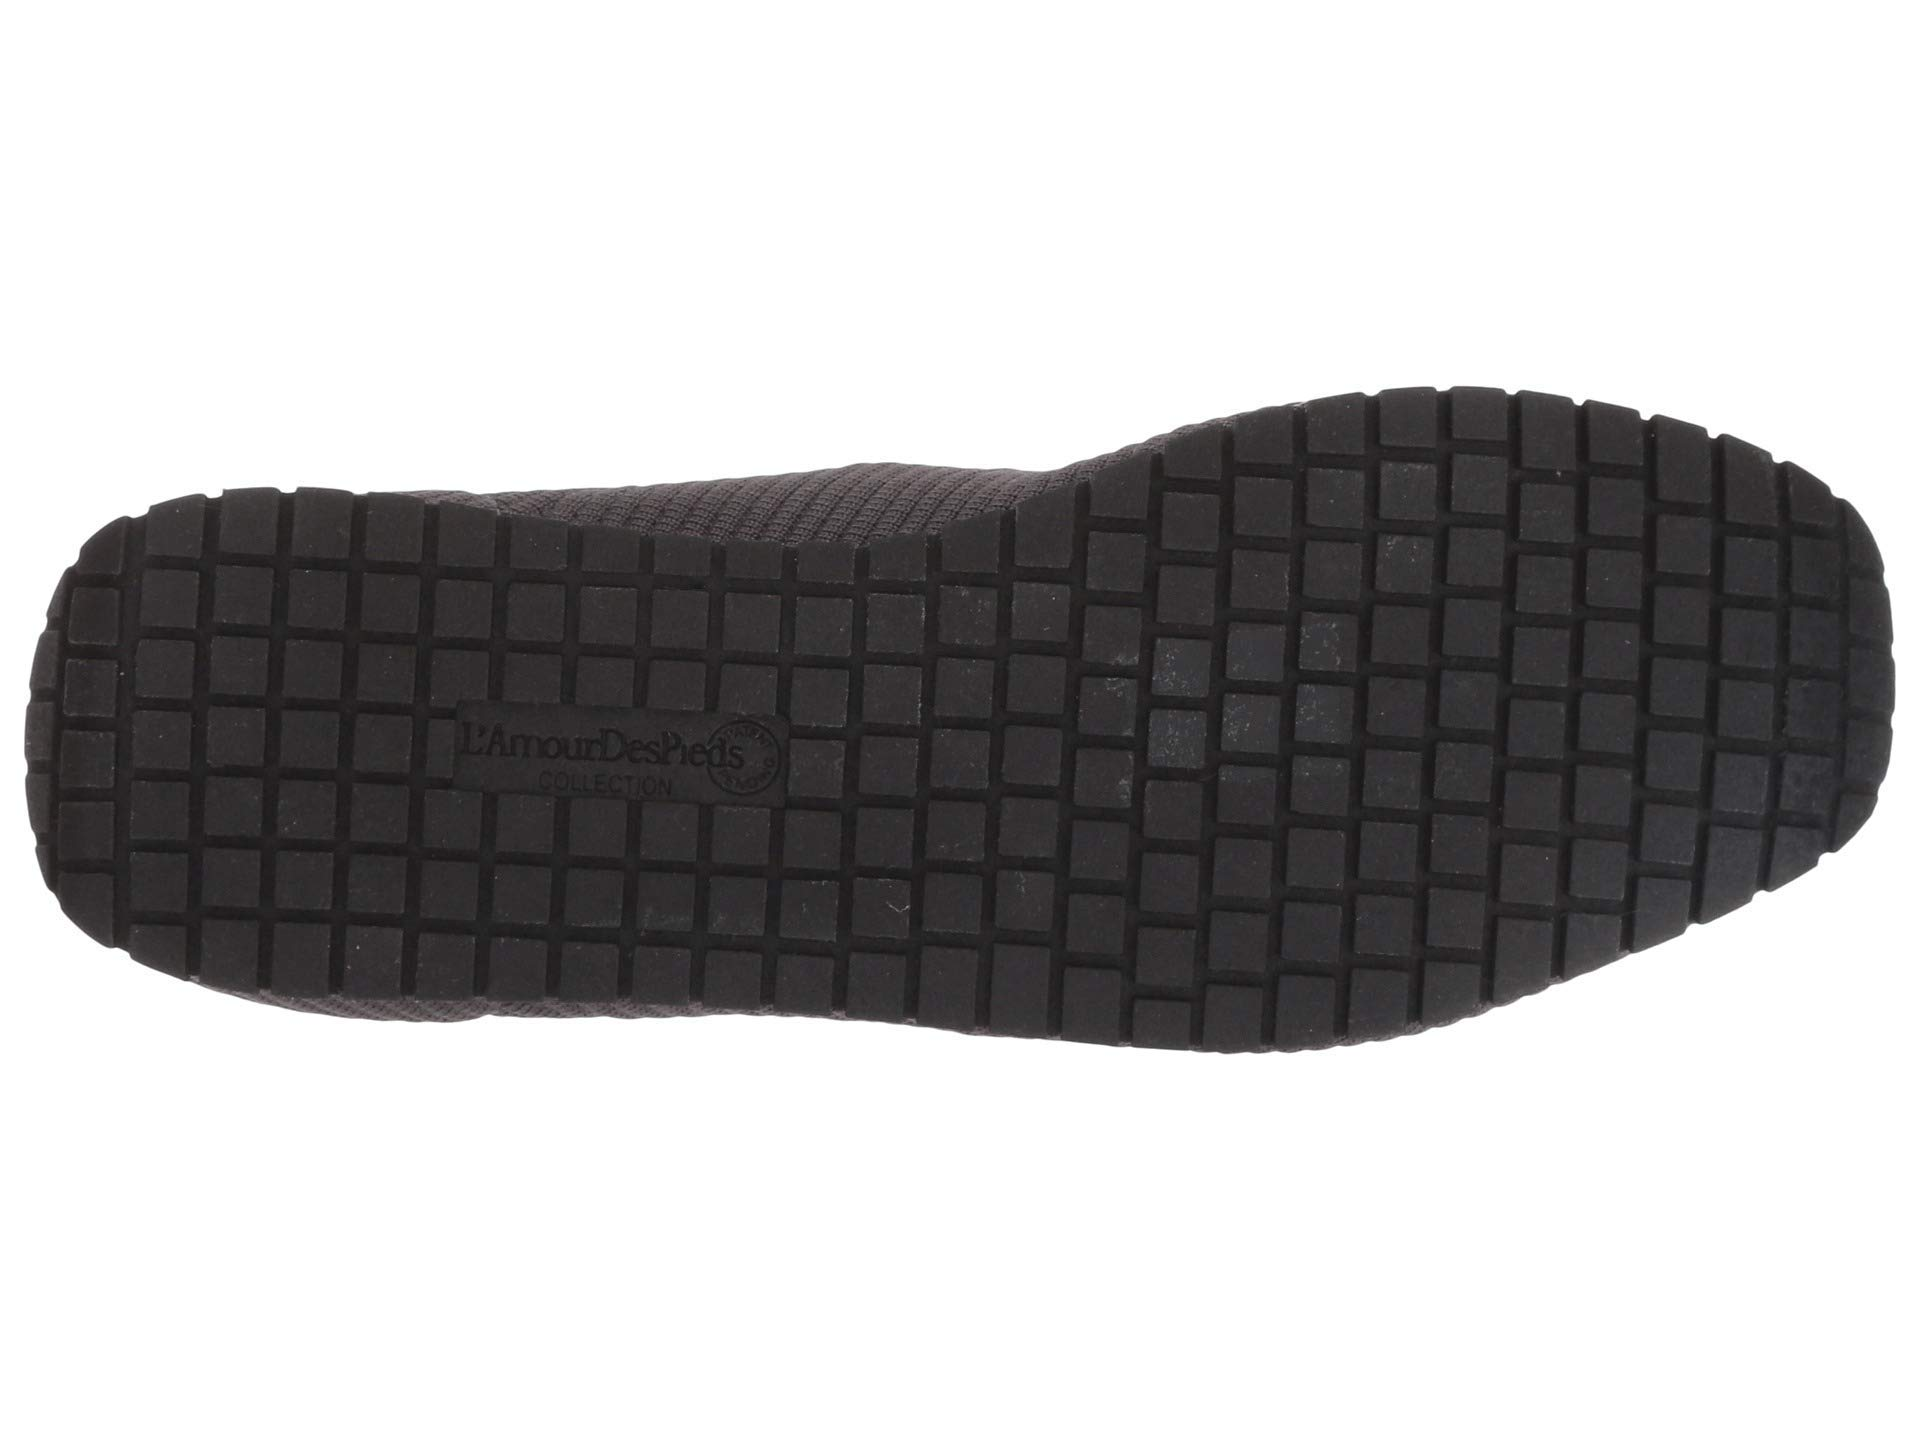circle: (336, 570, 848, 1013)
quad: (336, 570, 848, 1013), (1030, 523, 1433, 1033), (1568, 479, 1869, 811)
text: (336, 570, 848, 1013)
